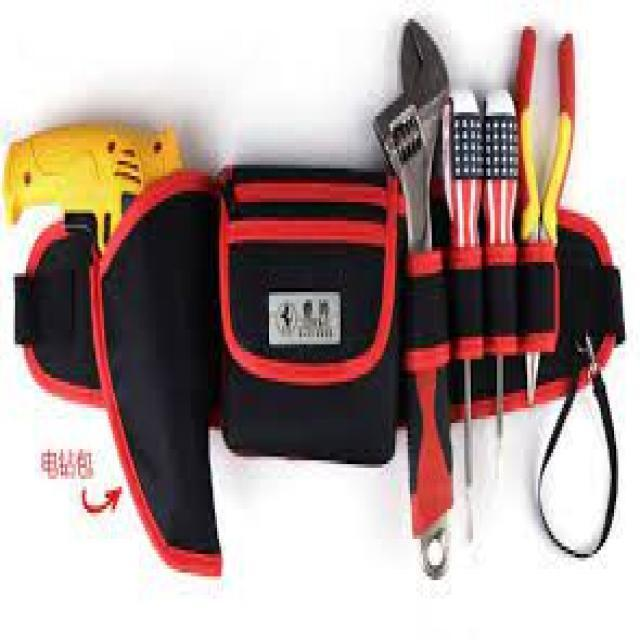screwdriver: (439, 86, 487, 550), (482, 84, 520, 488)
